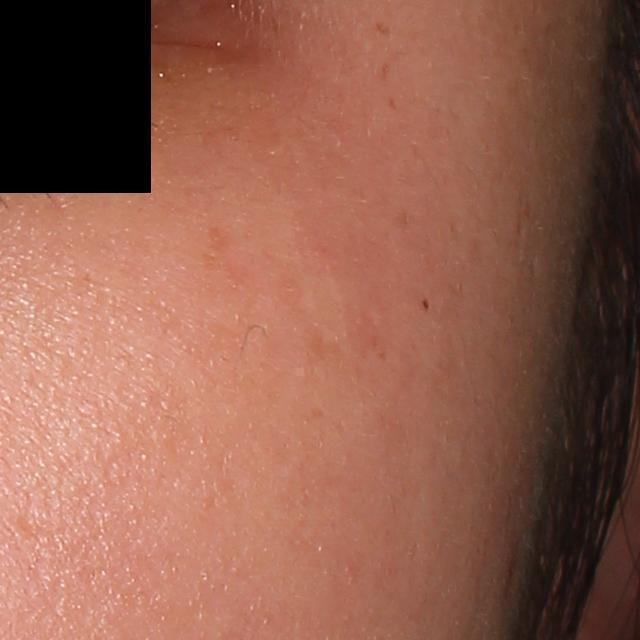melasma: (369, 18, 392, 38)
nevus: (420, 297, 432, 311)
